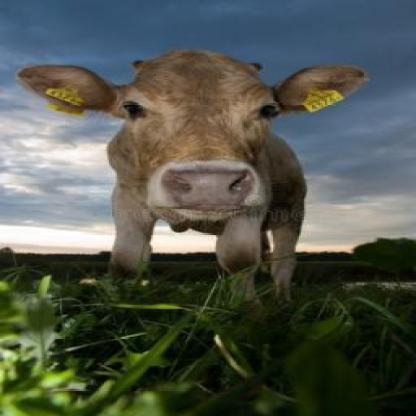lower: (178, 207, 232, 223)
mouth: (144, 157, 268, 227)
upper: (191, 176, 229, 192)
